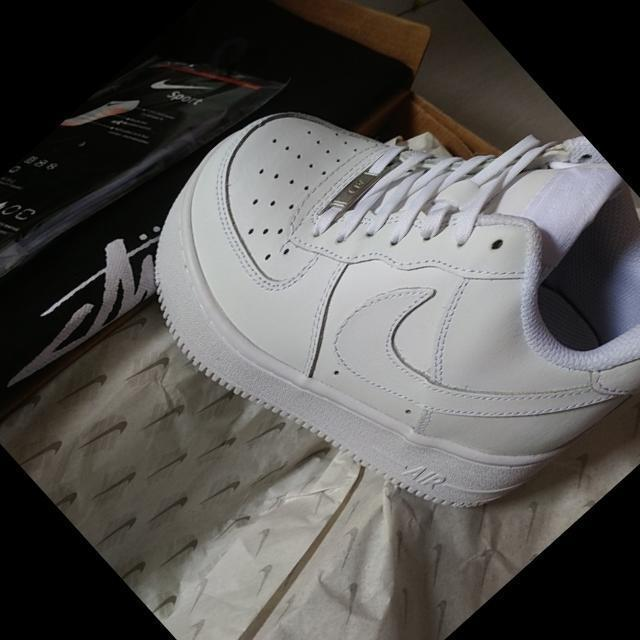nike fake air force: (91, 0, 640, 601)
